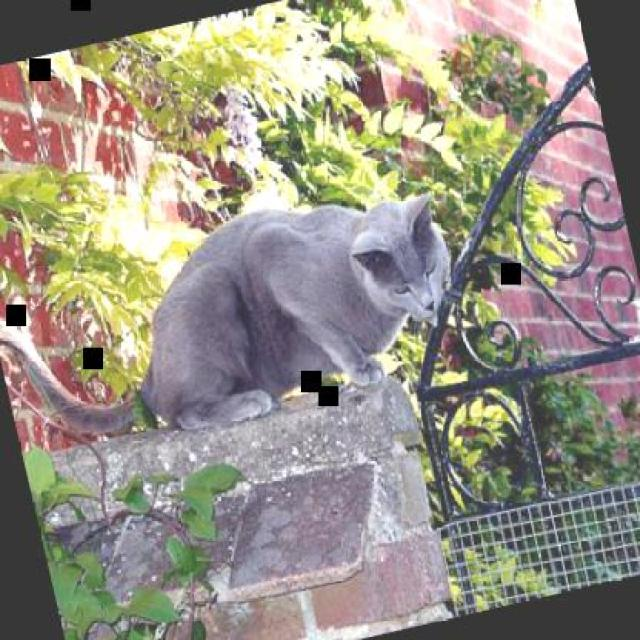cat: (0, 169, 478, 473)
